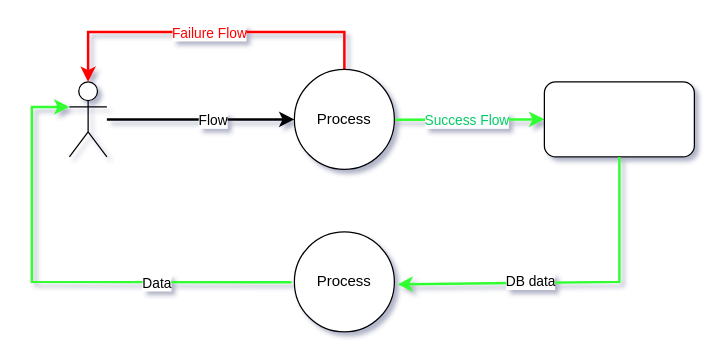
Image size: 724x361. Some labels were removed from this diagram. The shapes that lost their labels are listed below. From the top down, each one's centre as x and y in pixels, then its label:
At (87,119): "User".
At (618,119): "DB Store".
